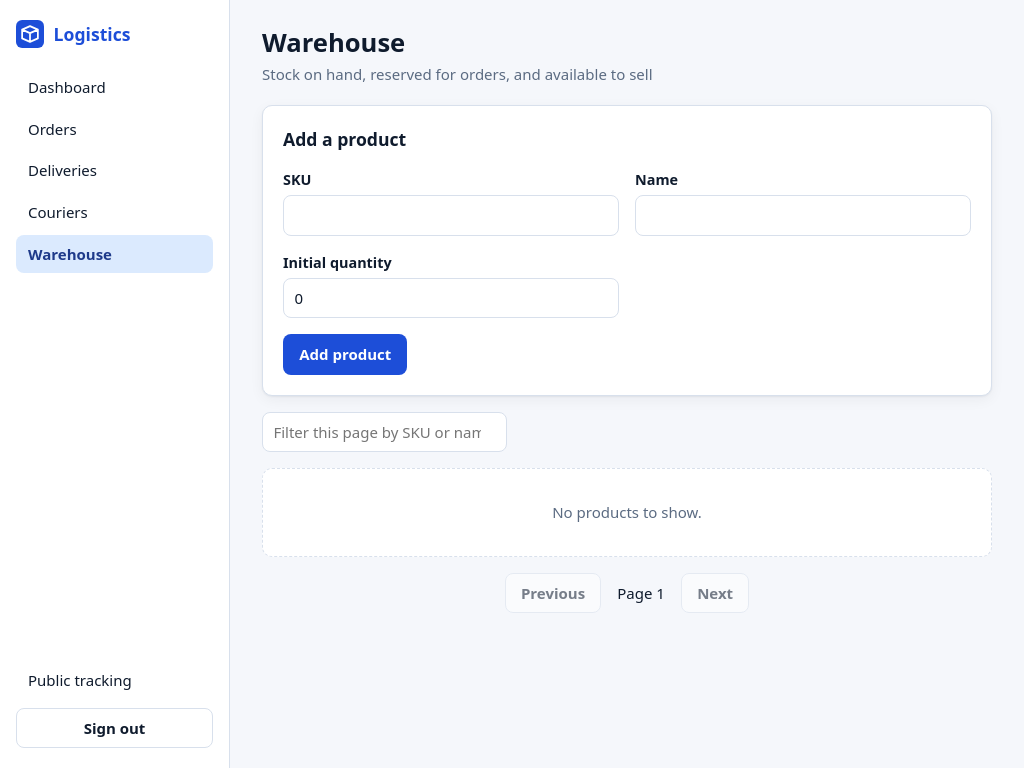
it: warehouse › shows a duplicate sku error from the server
Expected: the text "No products to show." is shown, left=262, top=468, right=992, bottom=557
Type "BOX-M" into the field labelled "SKU". click: [451, 215]
box: left=283, top=195, right=619, bottom=236
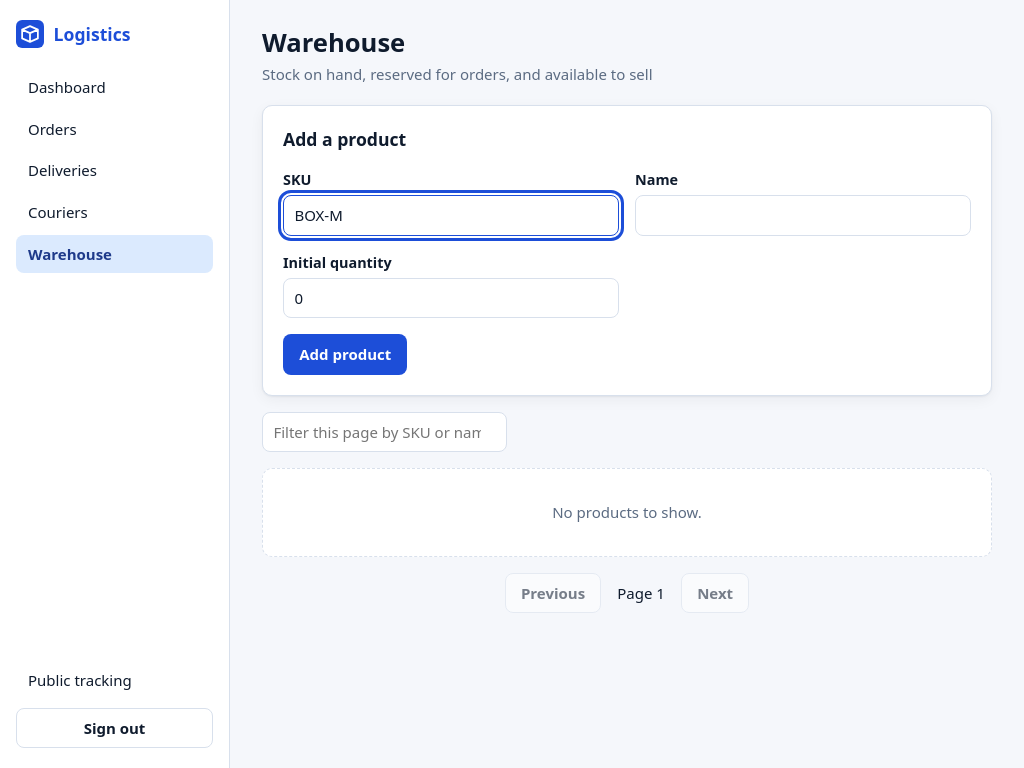
Type "Medium box" into the field labelled "Name". click: [803, 215]
box: left=635, top=195, right=971, bottom=236
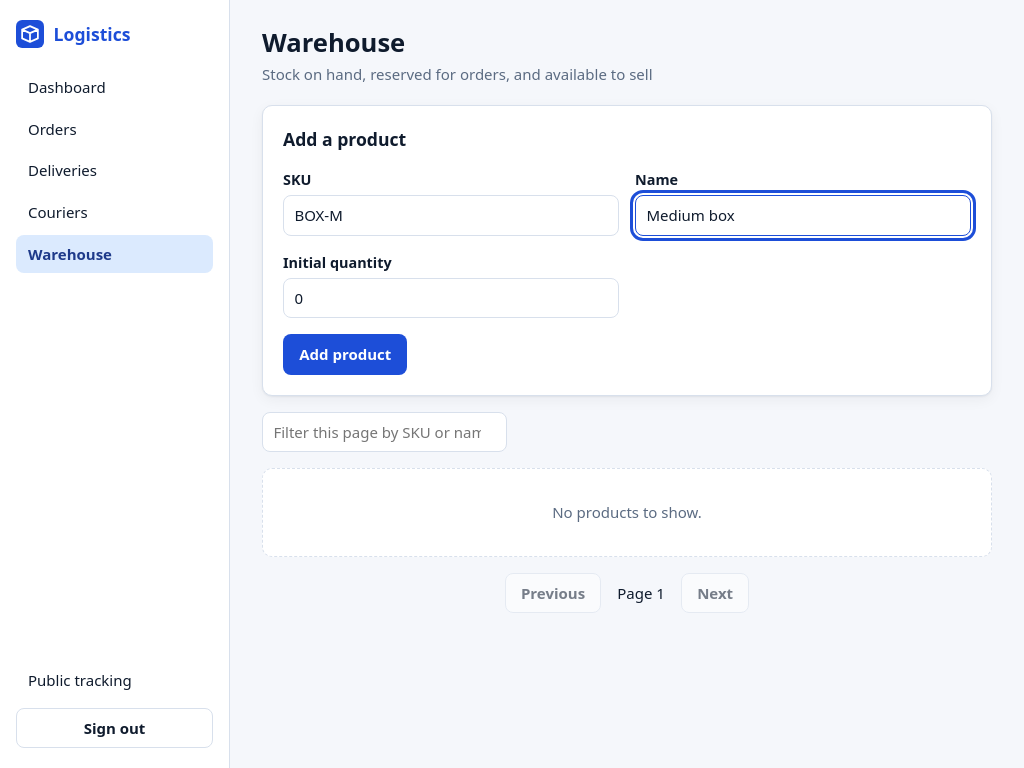
Click the button "Add product". click: [345, 355]
box: left=283, top=334, right=408, bottom=375
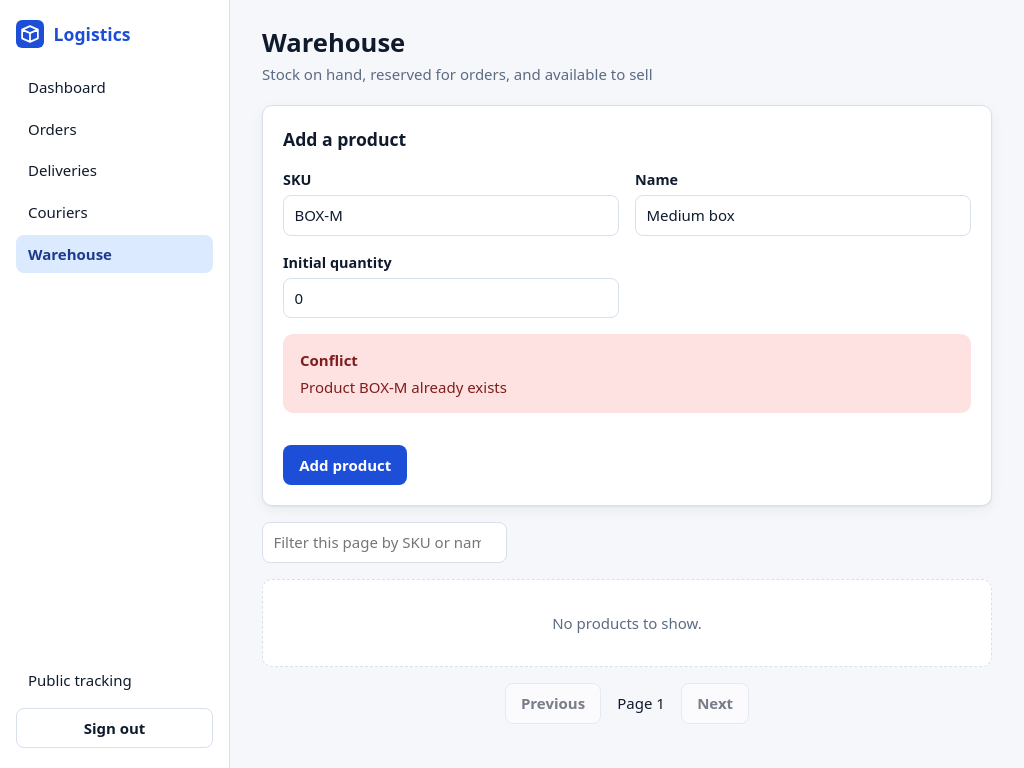
Now the text "Product BOX-M already exists" is shown, box left=300, top=376, right=507, bottom=396
